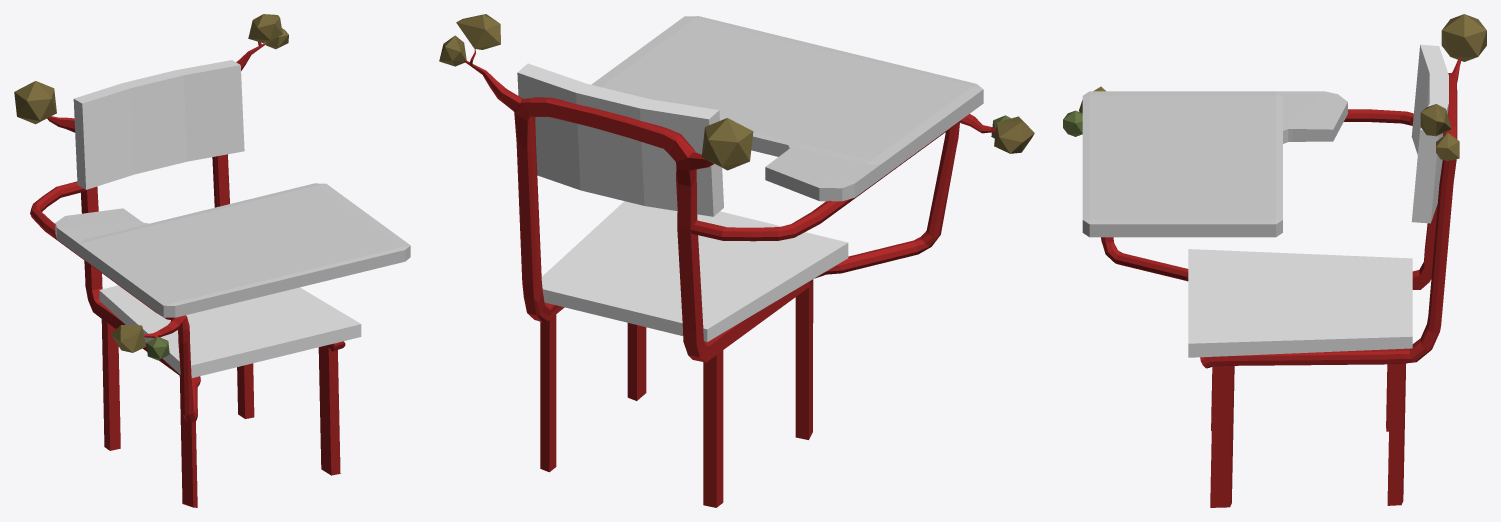
File: schoolDesk.fbx
3 views of the same model, side by side, from view 1: azimuth 30°, elevation 25°; view 2: azimuth 150°, elevation 25°; view 3: azimuth 270°, elevation 25° (orthographic). The views are drawn at different scales.
Parts seen in each view (by area): view 1: Cube, Cube.001, Cylinder, Cube.002, bush 3, bush 2, bush 5; view 2: Cube, Cylinder, Cube.002, Cube.001, bush 3, bush 2, bush 5; view 3: Cube, Cube.002, Cylinder, Cube.001, bush 3, bush 2, bush 1.
Part boxes in pixels (left/top/right/bottom): Cube: left=55, top=183, right=410, bottom=317; Cube.001: left=73, top=60, right=244, bottom=189; Cylinder: left=30, top=41, right=345, bottom=507; Cube.002: left=99, top=285, right=361, bottom=377; bush 3: left=14, top=81, right=56, bottom=124; bush 2: left=248, top=14, right=282, bottom=43; bush 5: left=111, top=325, right=146, bottom=352; Cube: left=591, top=16, right=983, bottom=201; Cylinder: left=464, top=49, right=995, bottom=507; Cube.002: left=541, top=201, right=848, bottom=341; Cube.001: left=517, top=63, right=723, bottom=216; bush 3: left=701, top=118, right=753, bottom=170; bush 2: left=456, top=14, right=500, bottom=49; bush 5: left=994, top=116, right=1034, bottom=153; Cube: left=1082, top=91, right=1347, bottom=237; Cube.002: left=1188, top=249, right=1412, bottom=357; Cylinder: left=1101, top=58, right=1461, bottom=507; Cube.001: left=1411, top=44, right=1448, bottom=223; bush 3: left=1441, top=14, right=1486, bottom=61; bush 2: left=1420, top=104, right=1451, bottom=136; bush 1: left=1436, top=133, right=1459, bottom=160.
Size of the model in its own units: 413 by 458 by 420.
